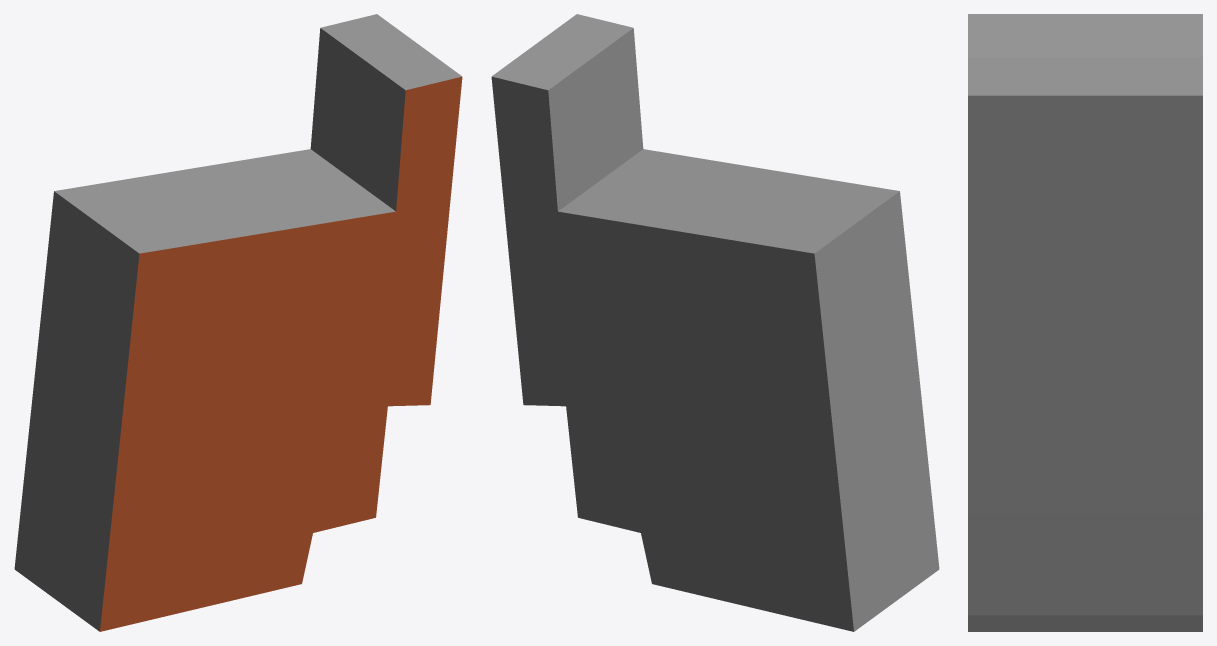
File: construction_1919_assumed_A_Casa_h6m.obj
The picture shows the model from 3 angles, left to right: view 1: azimuth 30°, elevation 25°; view 2: azimuth 150°, elevation 25°; view 3: azimuth 270°, elevation 25°; orthographic projection. The views are drawn at different scales.
Visible parts, largest first — view 1: construction_1919_assumed_A_Casa; view 2: construction_1919_assumed_A_Casa; view 3: construction_1919_assumed_A_Casa.
Boxes of the visible parts, left/top/right/bottom form: construction_1919_assumed_A_Casa: left=14, top=14, right=462, bottom=631; construction_1919_assumed_A_Casa: left=491, top=14, right=939, bottom=631; construction_1919_assumed_A_Casa: left=968, top=14, right=1202, bottom=631.
Size of the model in its own units: 14.7 by 18.15 by 6.
